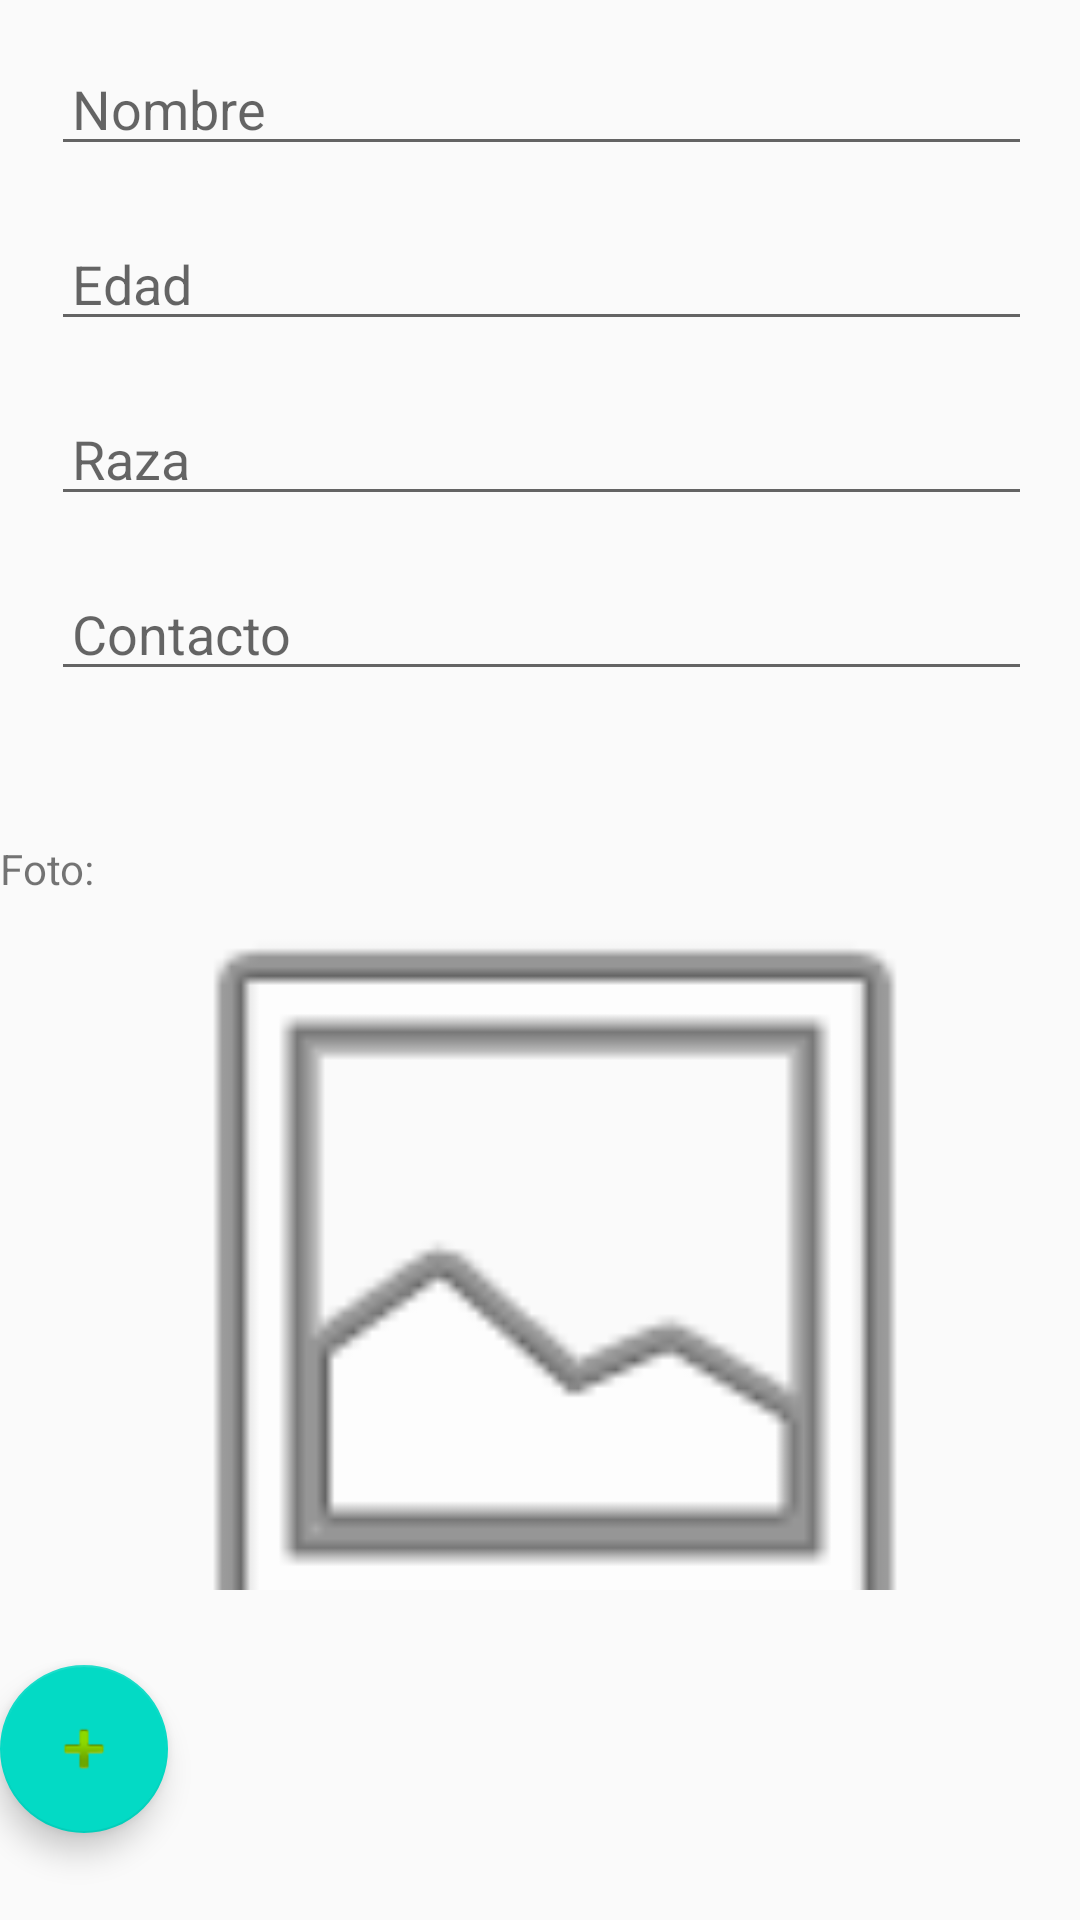

Where to tap for icons on this 1080px×1920px app screen, as (x,y):
add: (84,1749)
